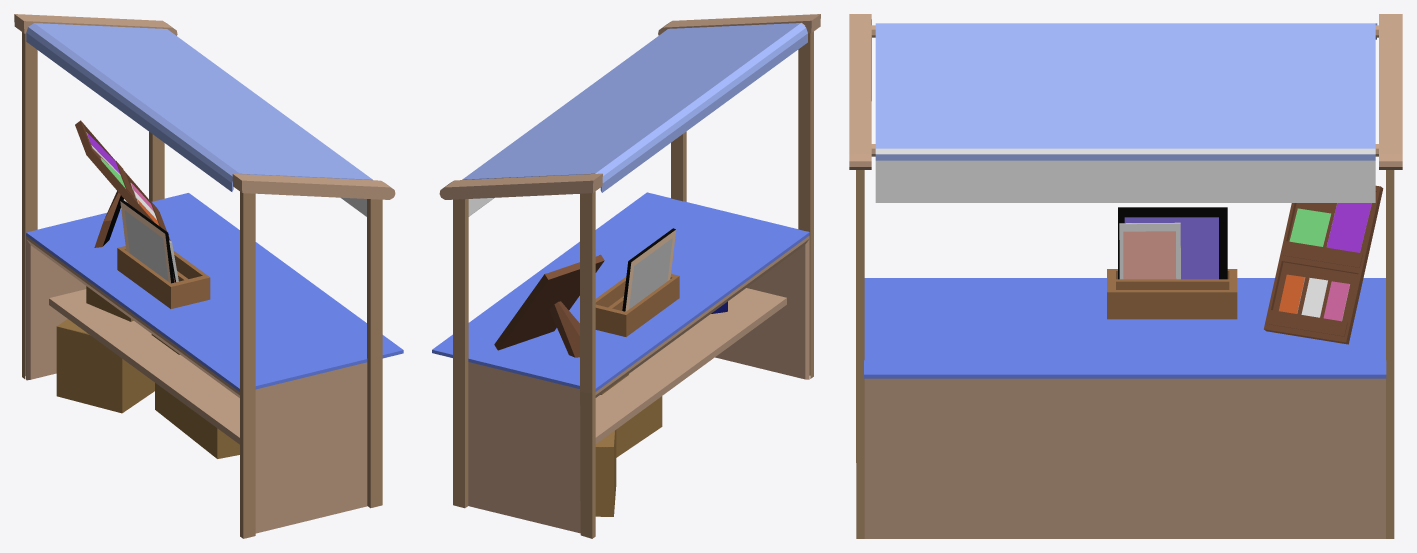
File: artstall.fbx
3 renders of one model, left to right at view 1: azimuth 30°, elevation 25°; view 2: azimuth 150°, elevation 25°; view 3: azimuth 270°, elevation 25°, orthographic. The views are drawn at different scales.
Visible parts, largest first — view 1: base, counter, cloth, closed box, flat art stand, paintings, art stand, art pieces; view 2: base, cloth, counter, art stand, closed box, flat art stand, paintings; view 3: base, cloth, counter, paintings, art stand, flat art stand, art pieces.
Part boxes in pixels (left/top/right/bottom): base: left=14, top=14, right=395, bottom=538; counter: left=26, top=193, right=403, bottom=391; cloth: left=26, top=23, right=372, bottom=216; closed box: left=56, top=286, right=239, bottom=458; flat art stand: left=117, top=246, right=210, bottom=308; paintings: left=120, top=200, right=178, bottom=283; art stand: left=75, top=120, right=170, bottom=247; art pieces: left=86, top=132, right=159, bottom=225; base: left=439, top=14, right=820, bottom=538; cloth: left=462, top=23, right=807, bottom=216; counter: left=432, top=192, right=809, bottom=391; art stand: left=494, top=254, right=604, bottom=357; closed box: left=595, top=374, right=662, bottom=516; flat art stand: left=595, top=274, right=679, bottom=336; paintings: left=622, top=228, right=676, bottom=311; base: left=849, top=14, right=1402, bottom=538; cloth: left=875, top=23, right=1377, bottom=202; counter: left=864, top=278, right=1386, bottom=378; paintings: left=1118, top=207, right=1227, bottom=279; art stand: left=1264, top=185, right=1383, bottom=344; flat art stand: left=1107, top=269, right=1237, bottom=319; art pieces: left=1279, top=203, right=1371, bottom=321.
Size of the model in its own units: 244 by 503 by 573.
